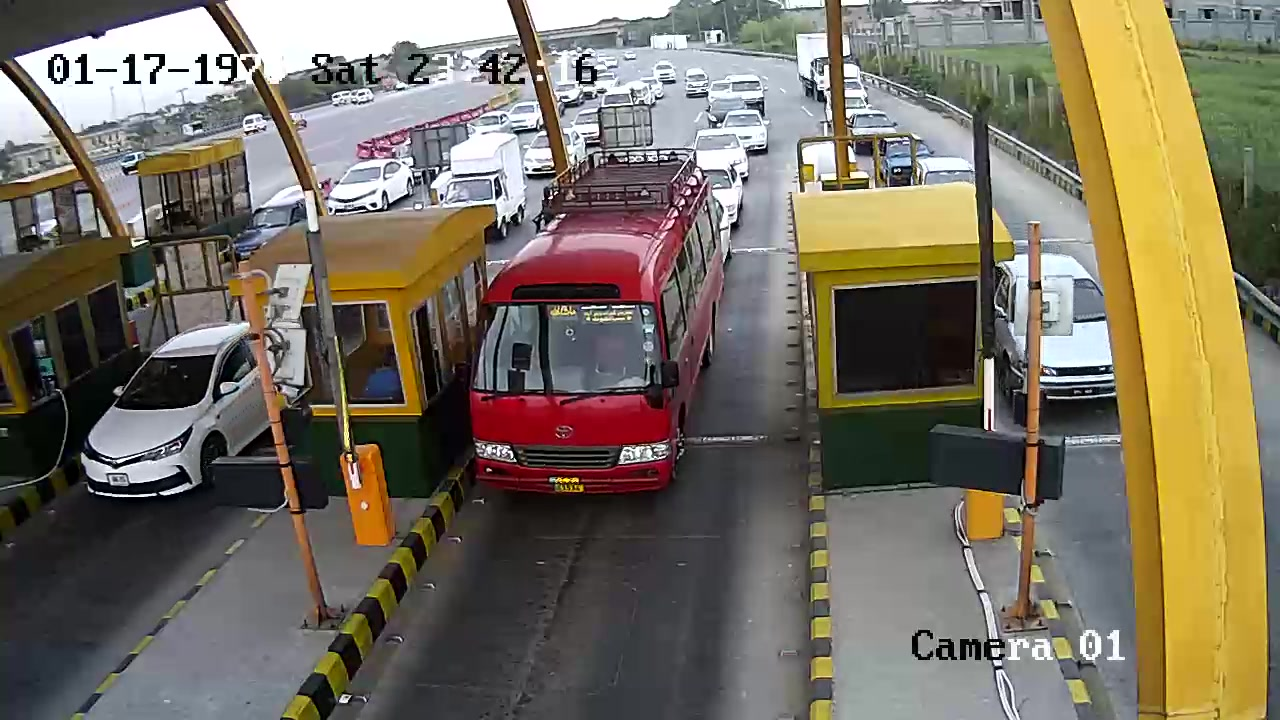F3: (466, 144, 728, 507)
